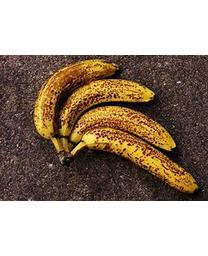banana: (32, 59, 201, 192)
